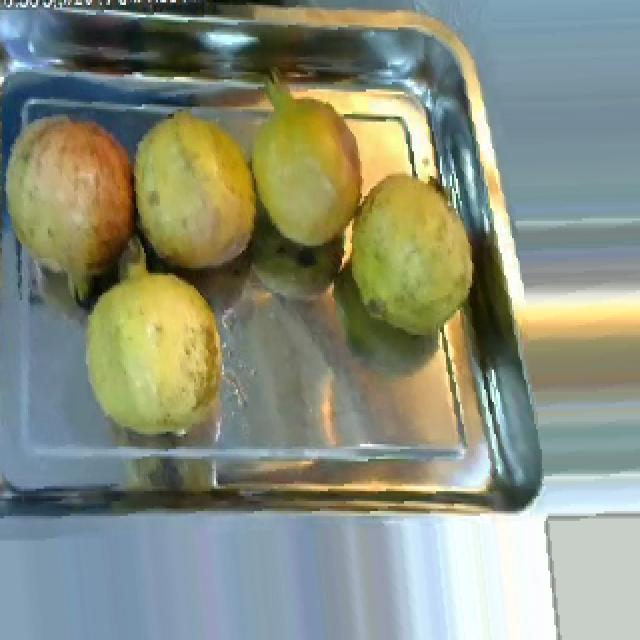fruit: (330, 154, 486, 357), (76, 253, 234, 451), (0, 101, 146, 312), (238, 79, 382, 263), (124, 99, 266, 278)
